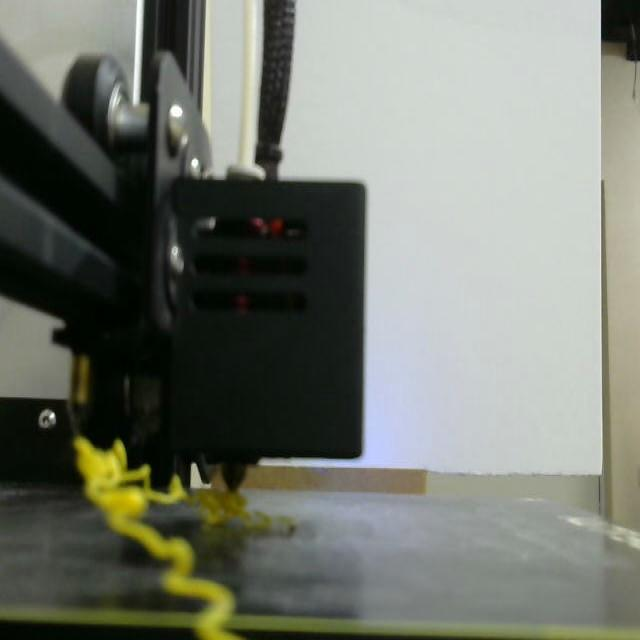spaghetti: (74, 435, 272, 639)
